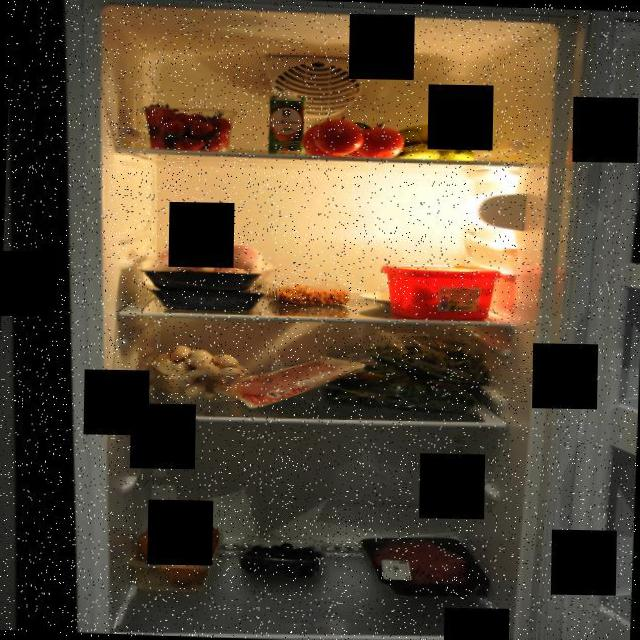Carne cerdo: (237, 349, 359, 412)
Carne pollo: (139, 238, 277, 292)
Cebolla: (131, 516, 218, 586)
Champiñones: (145, 344, 250, 402)
Gambas/Langostinos: (269, 280, 357, 309)
Mantequilla: (377, 256, 501, 320)
Plátano: (386, 119, 478, 164)
Tomate: (296, 110, 408, 160)
